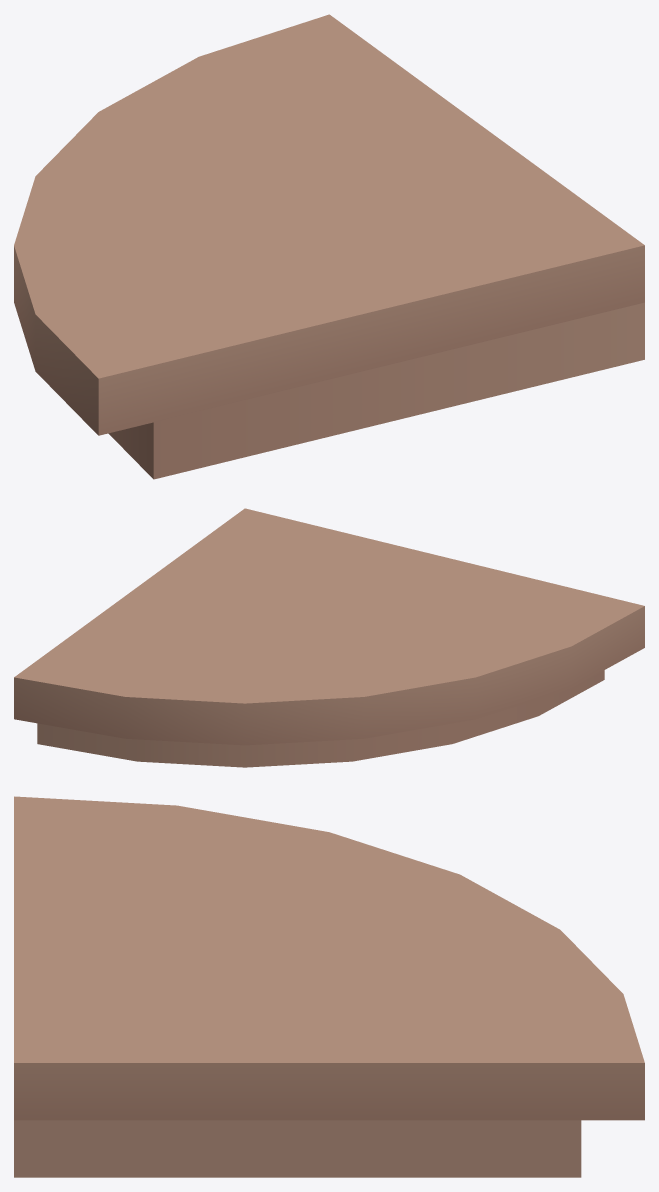
File: quarter-surface-round-edge.glb
3 renders of one model, top to bottom at view 1: azimuth 30°, elevation 25°; view 2: azimuth 150°, elevation 25°; view 3: azimuth 270°, elevation 25°, orthographic. The views are drawn at different scales.
Parts seen in each view (by area): view 1: quarter-surface-round-edge; view 2: quarter-surface-round-edge; view 3: quarter-surface-round-edge.
Part boxes in pixels (x1,y1,x2,y2): quarter-surface-round-edge: (14,14,644,479); quarter-surface-round-edge: (14,508,644,767); quarter-surface-round-edge: (14,796,644,1177).
Size of the model in its own units: 0.5 by 0.1 by 0.5.
